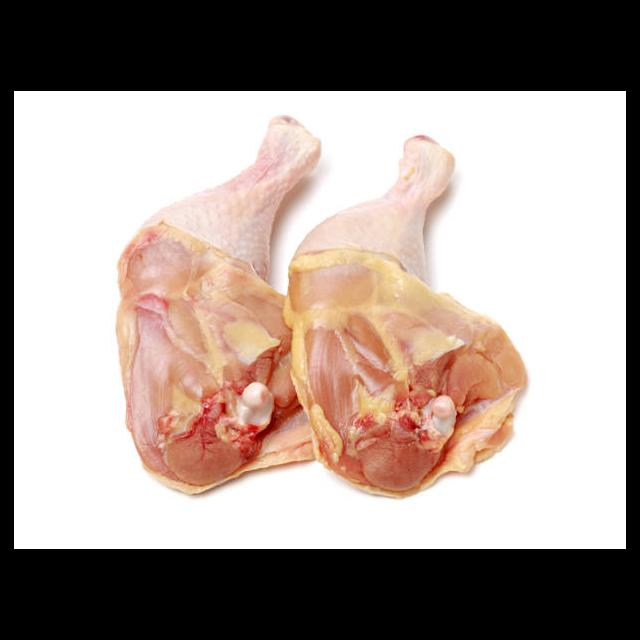chicken: (282, 132, 530, 500), (115, 112, 324, 496)
